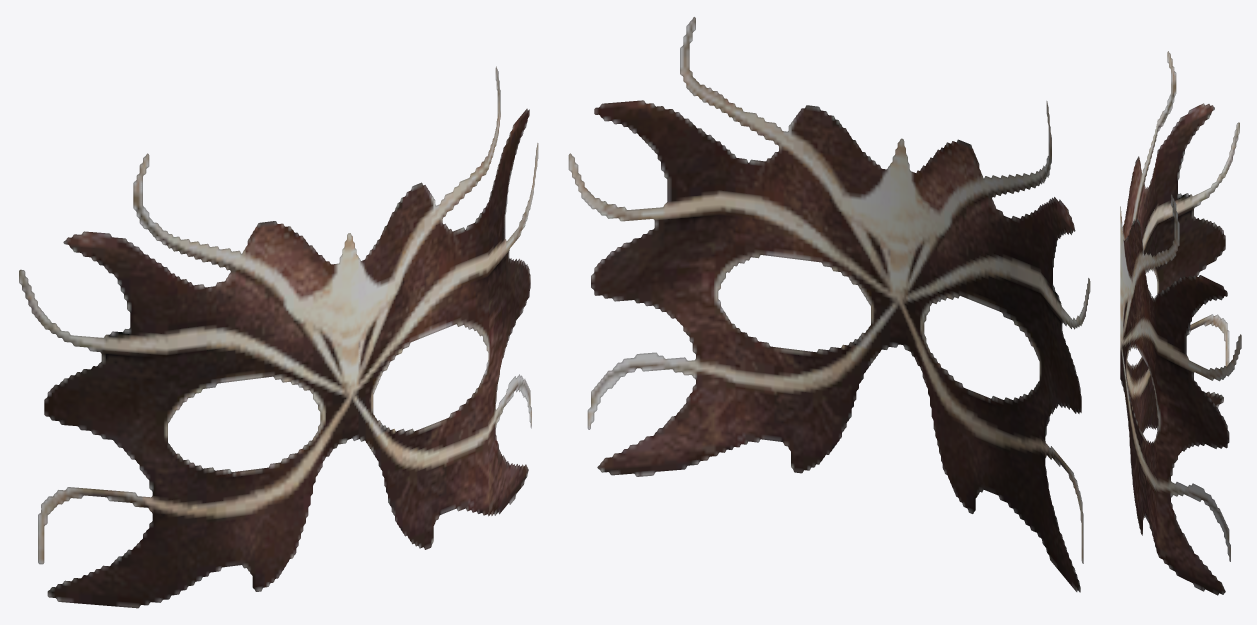
The model's file is furni_0200771.FBX.
The picture shows the model from 3 angles, left to right: view 1: azimuth 30°, elevation 25°; view 2: azimuth 150°, elevation 25°; view 3: azimuth 270°, elevation 25°; orthographic projection. The views are drawn at different scales.
Visible parts, largest first — view 1: furni_0200771; view 2: furni_0200771; view 3: furni_0200771.
Part boxes in pixels (x1=…): furni_0200771: x1=19, y1=66, x2=538, y2=608; furni_0200771: x1=568, y1=17, x2=1090, y2=592; furni_0200771: x1=1120, y1=51, x2=1241, y2=595.
Size of the model in its own units: 49.66 by 41.32 by 11.96.
Materials: 1 (1 with a texture image).
